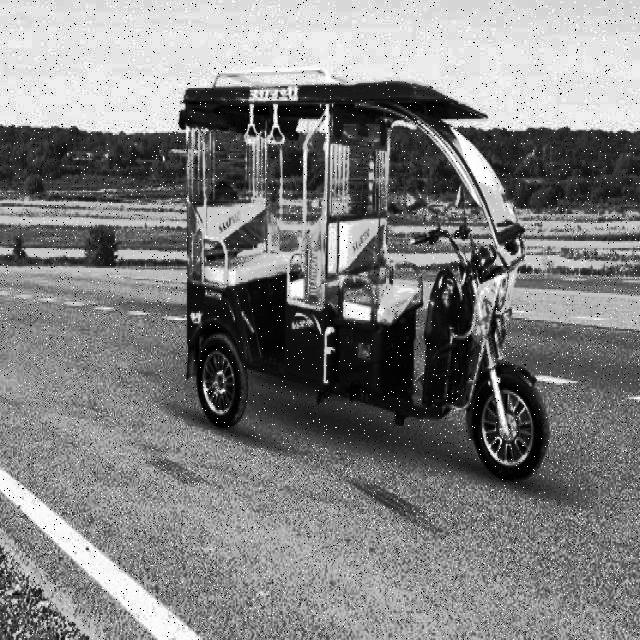Toto: (176, 70, 554, 464)
